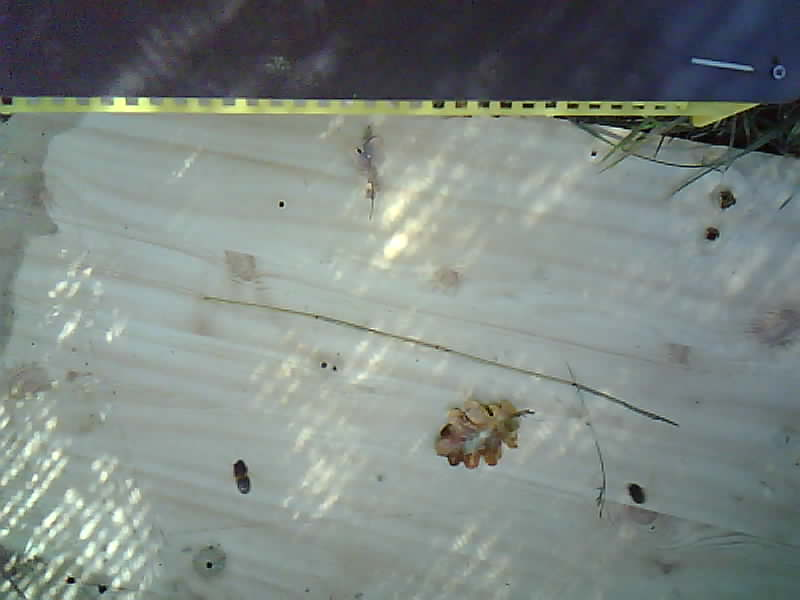bee: (230, 457, 254, 496)
